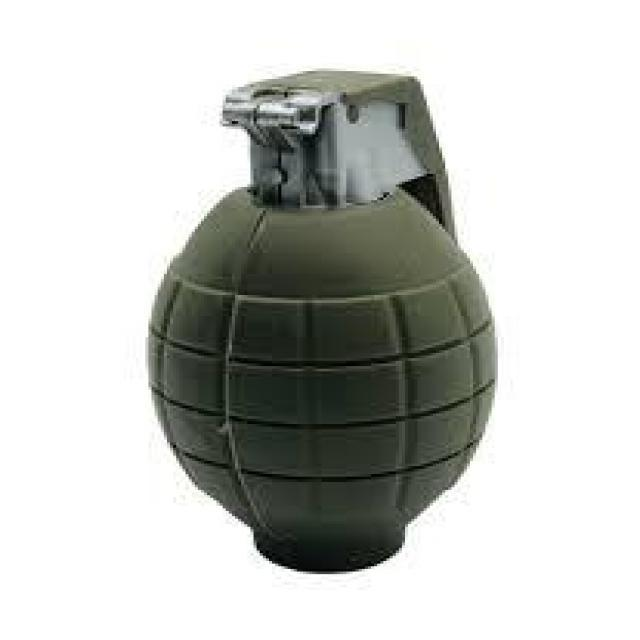grenade: (148, 66, 504, 580)
